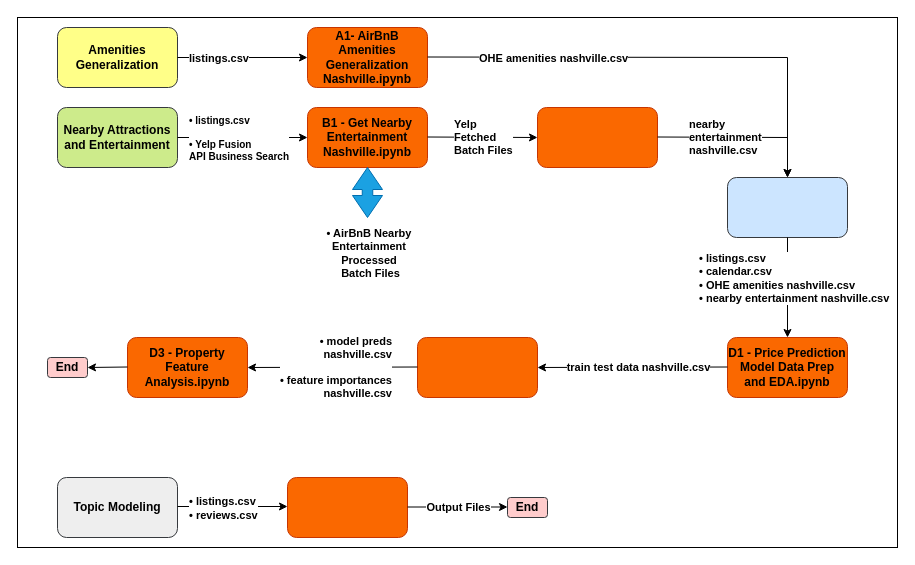
Image size: 915x565. Some labels were removed from this diagram. Here are the shapes that lost their labels. From the top down, the box of each, then its label:
(536, 106, 658, 168): B2 - Nearby Entertainment Nashville Post Processing.ipynb
(726, 176, 848, 238): Price Prediction Modeling and Analysis
(416, 336, 538, 398): D2 - Price Prediction Modeling.ipynb
(286, 476, 408, 538): E1 - 699 Review TopicModeling.ipynb
